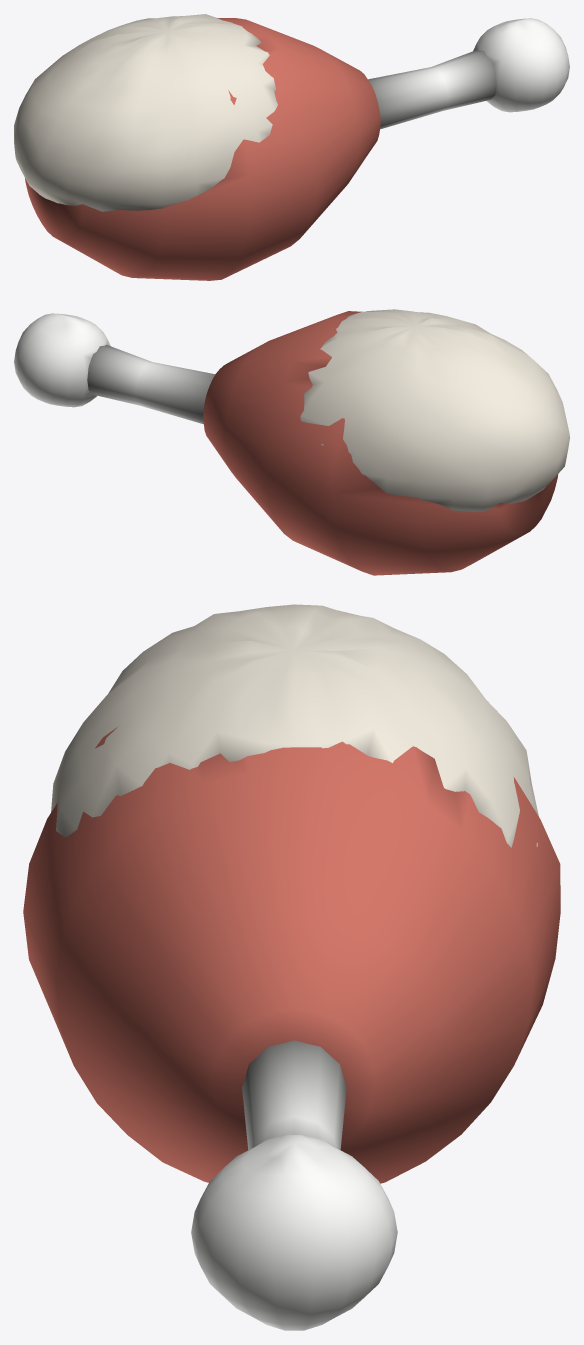
File: food_chicken.glb
3 views of the same model, one above another, from view 1: azimuth 30°, elevation 25°; view 2: azimuth 150°, elevation 25°; view 3: azimuth 270°, elevation 25° (orthographic). The views are drawn at different scales.
Visible parts, largest first — view 1: PART; view 2: PART; view 3: PART.
Part boxes in pixels (left/top/right/bottom): PART: left=14, top=14, right=569, bottom=280; PART: left=14, top=309, right=569, bottom=575; PART: left=23, top=604, right=560, bottom=1330.
Bounding box in the file's own units: 0.1683 × 0.0734 × 0.0729.
